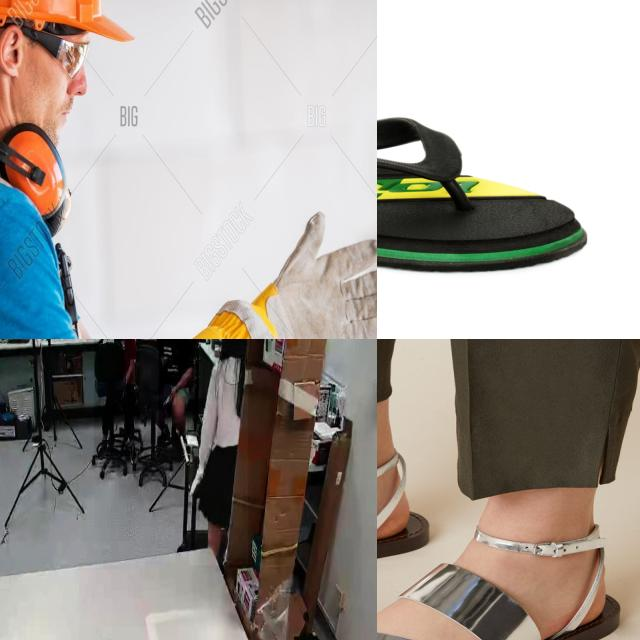Ear-protection: (0, 119, 67, 220)
Sandals: (377, 111, 588, 275), (377, 520, 622, 640)
glasses: (28, 17, 96, 78)
hand_glove: (191, 212, 377, 339)
hand_noglove: (164, 384, 177, 405), (115, 339, 124, 342)
head_helmet: (0, 0, 139, 45)
person: (0, 0, 377, 339), (189, 339, 248, 566), (94, 339, 139, 457), (158, 339, 199, 440)
